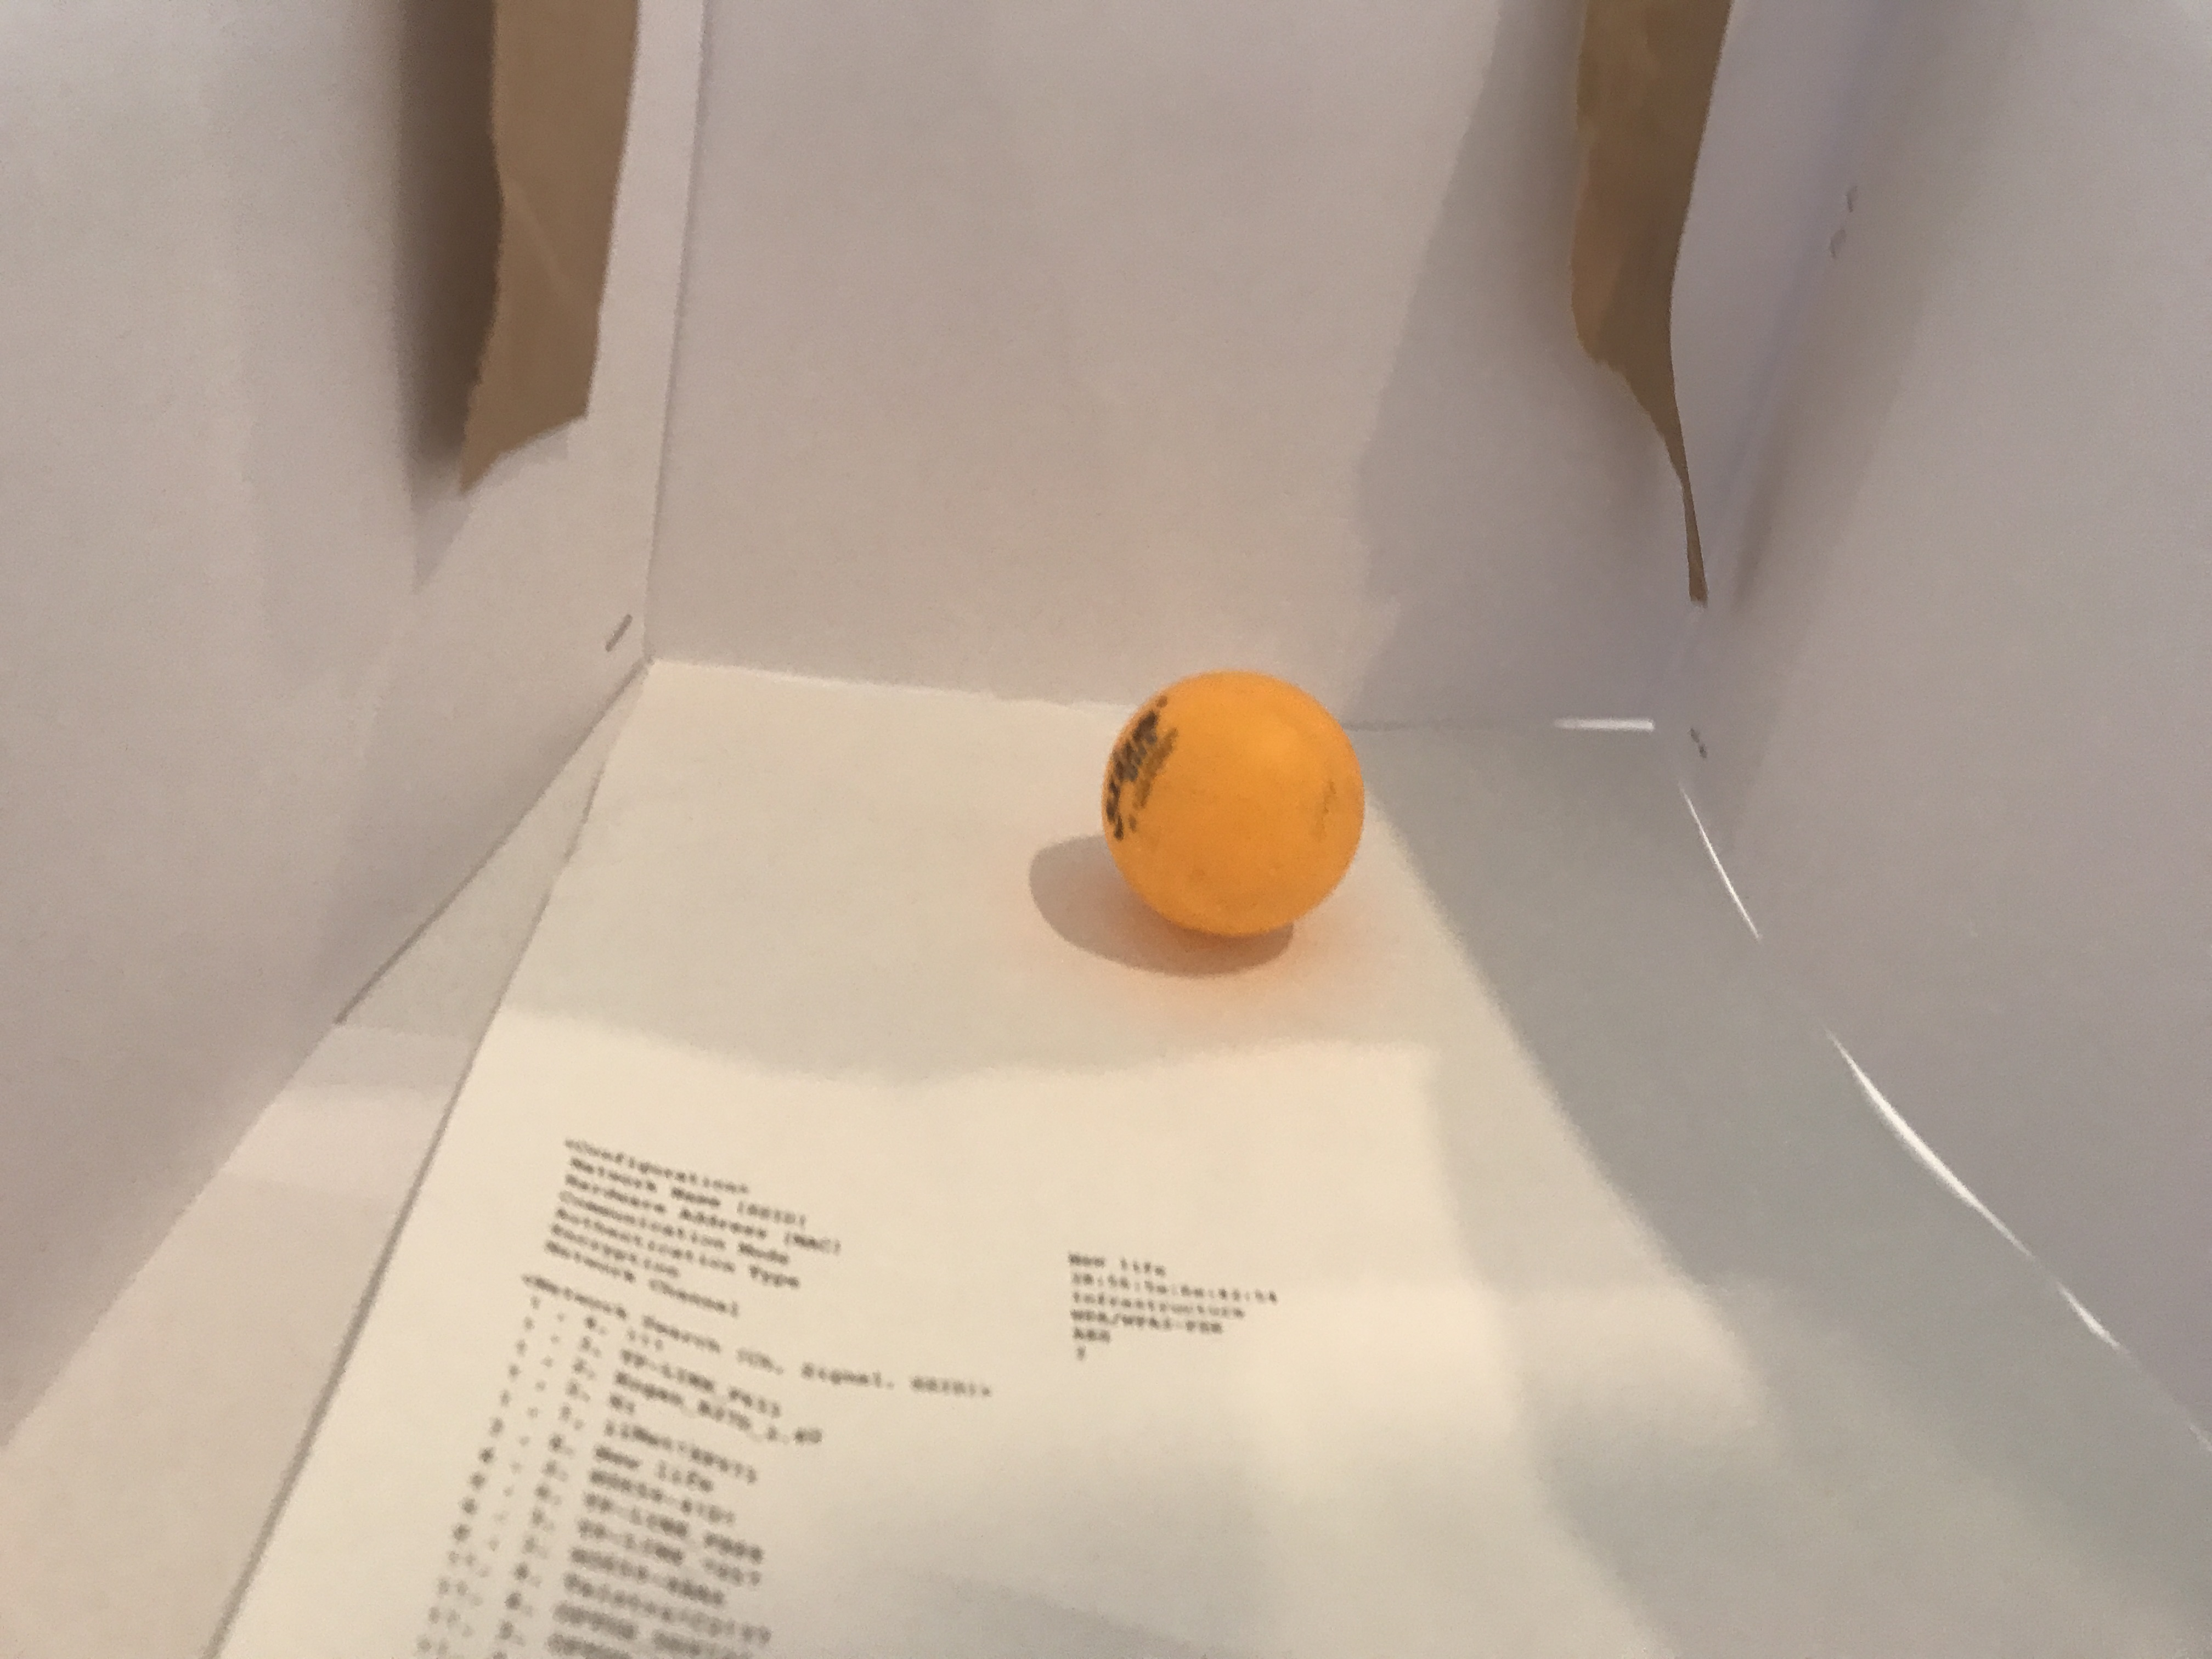pp: (1101, 664, 1366, 943)
